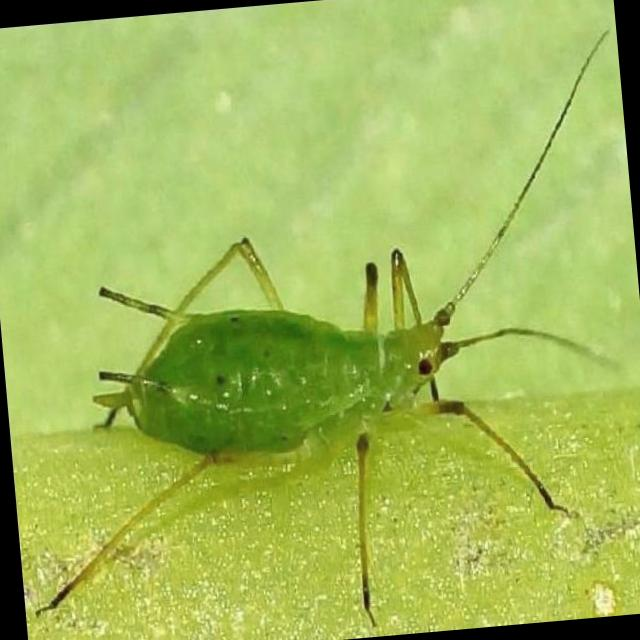aphid: (28, 150, 624, 632)
